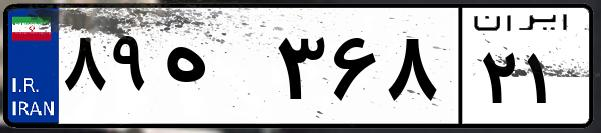1: (525, 38, 570, 115)
2: (475, 38, 525, 113)
3: (270, 28, 330, 110)
6: (330, 28, 385, 110)
8: (385, 28, 445, 110), (57, 26, 110, 100)
9: (110, 28, 158, 98)
ه: (158, 20, 270, 120)
